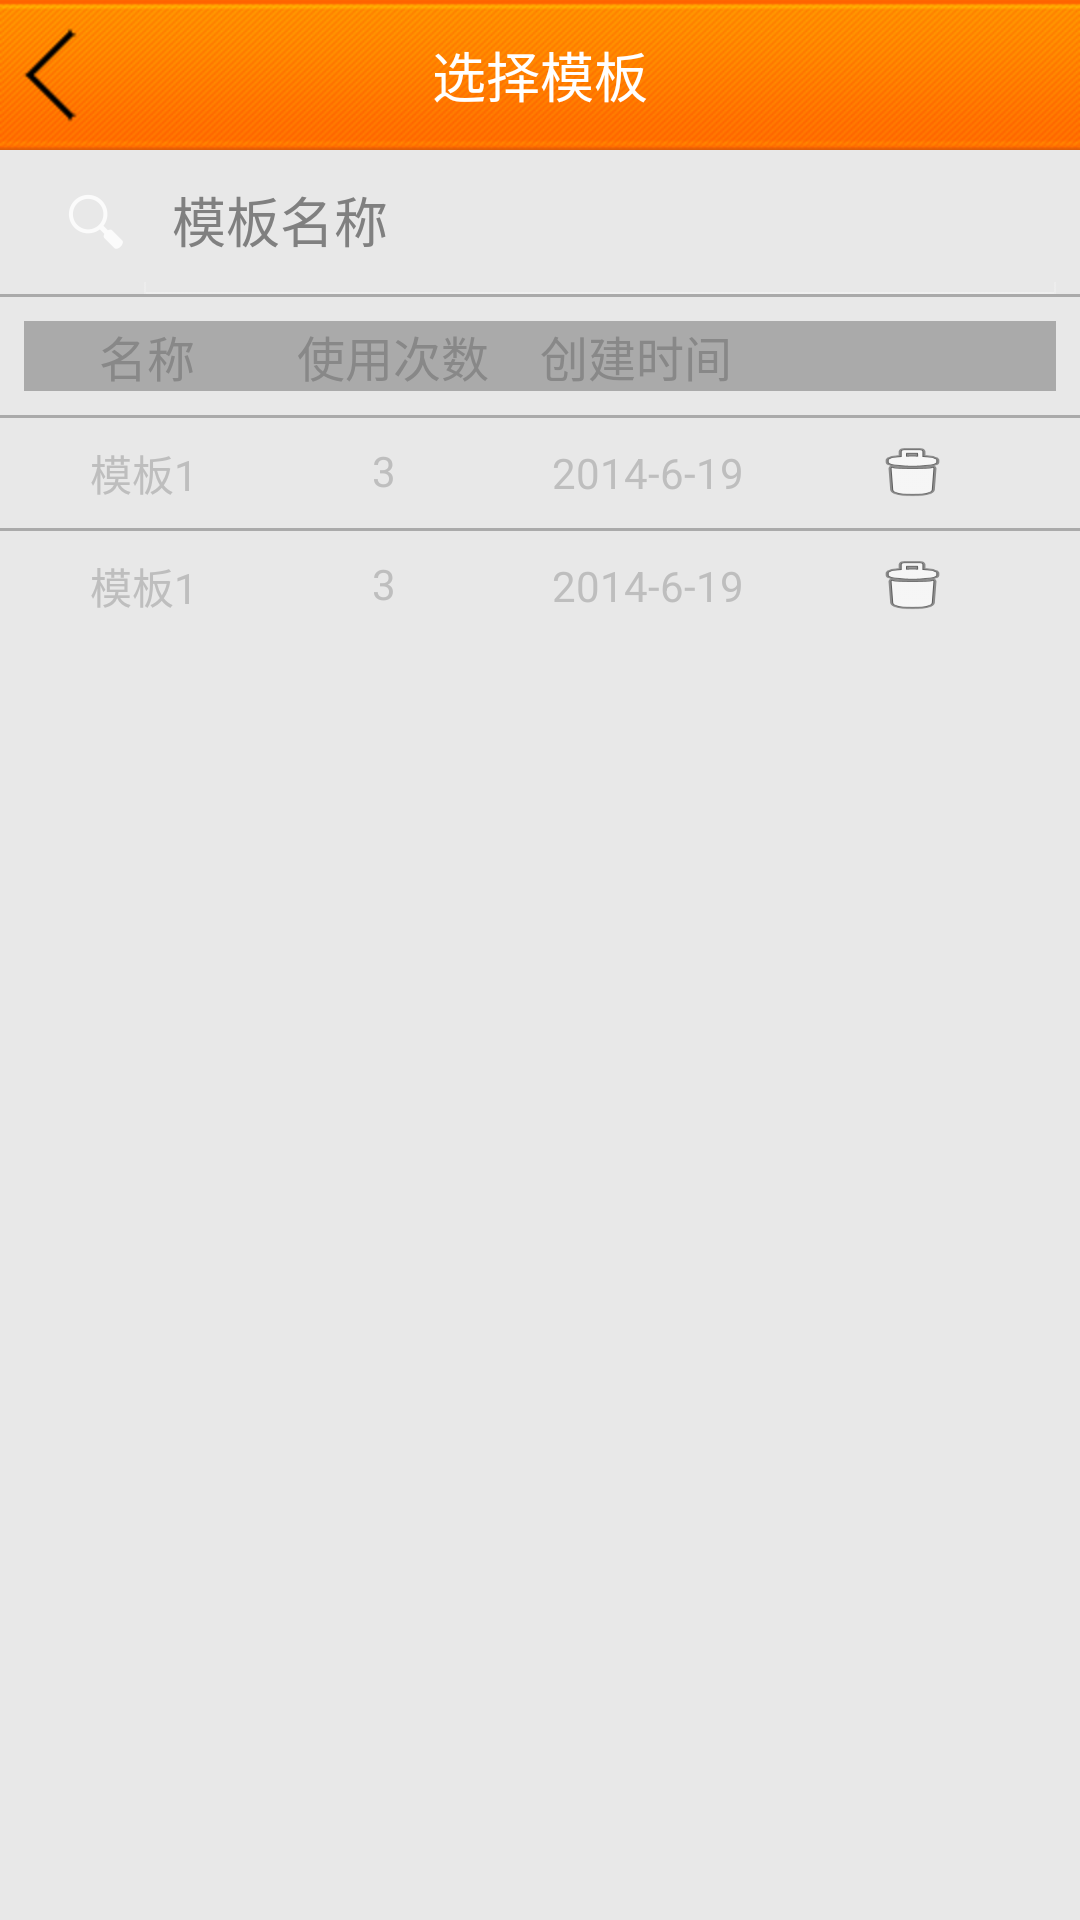

Where icons sit on this 1080 x 1920 app screen, as (x1, y1, x2, y2):
back: (0, 29, 100, 125)
delete: (885, 448, 940, 496), (885, 561, 940, 609)
